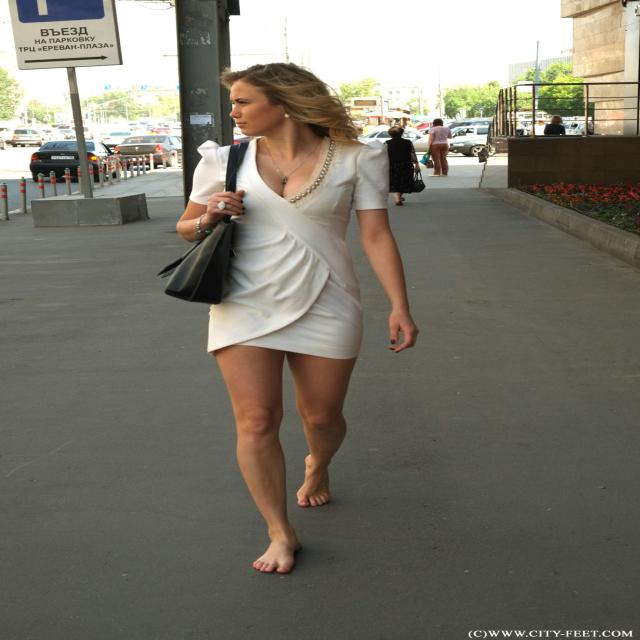Barefoots: (252, 531, 302, 573), (297, 454, 330, 507)
